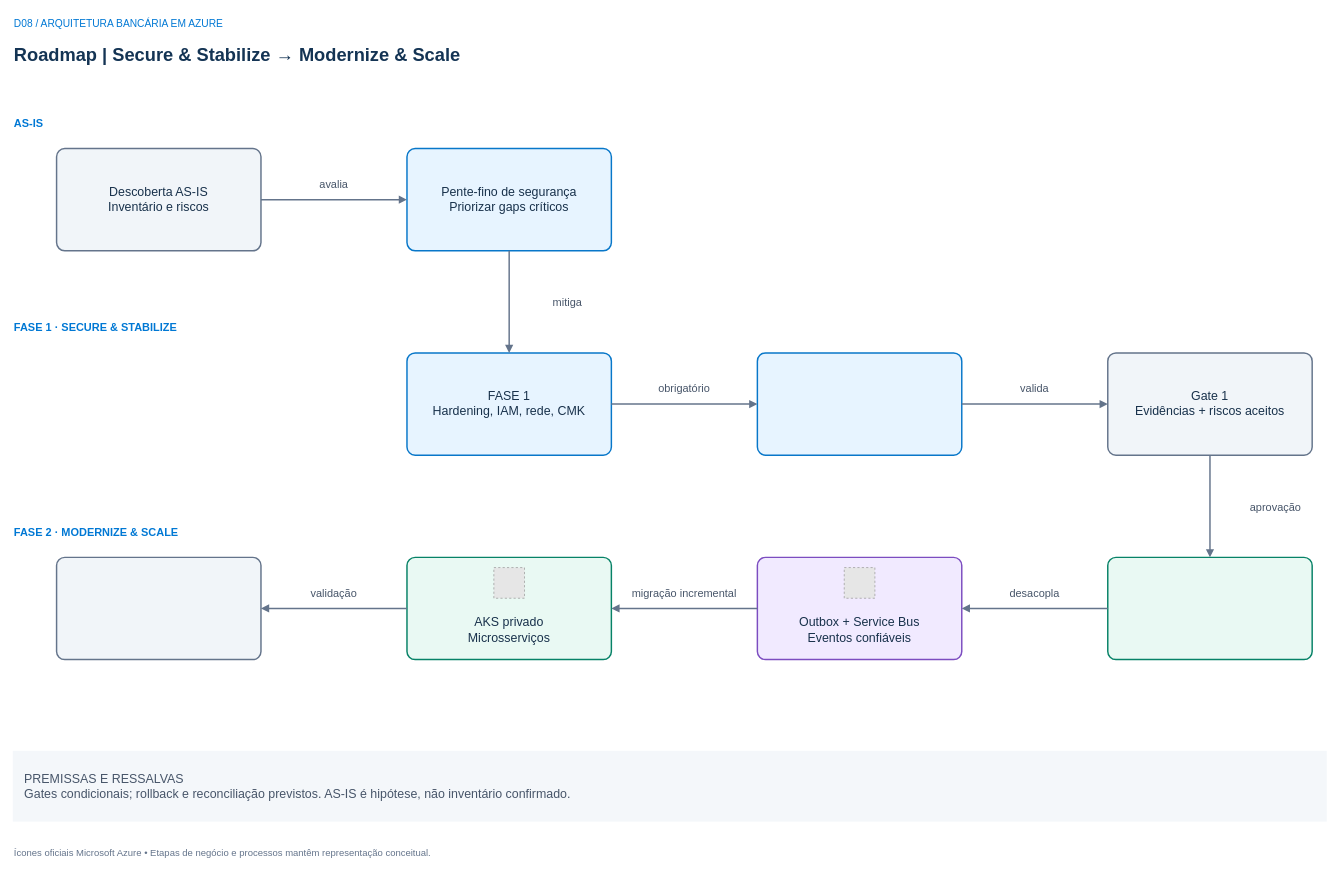
The diagram is 1339 pixels wide and 875 high, and some of its shapes have lost their labels. Grey dashed boxes stand in for pictures. Each missing label, with the box of its shape:
FASE 2 Strangler Fig / APIs: (1107, 556, 1313, 660)
Gate 2 Cutover + rollback: (55, 556, 261, 660)
Isolar lançamentos da consolidação: (756, 352, 962, 456)
